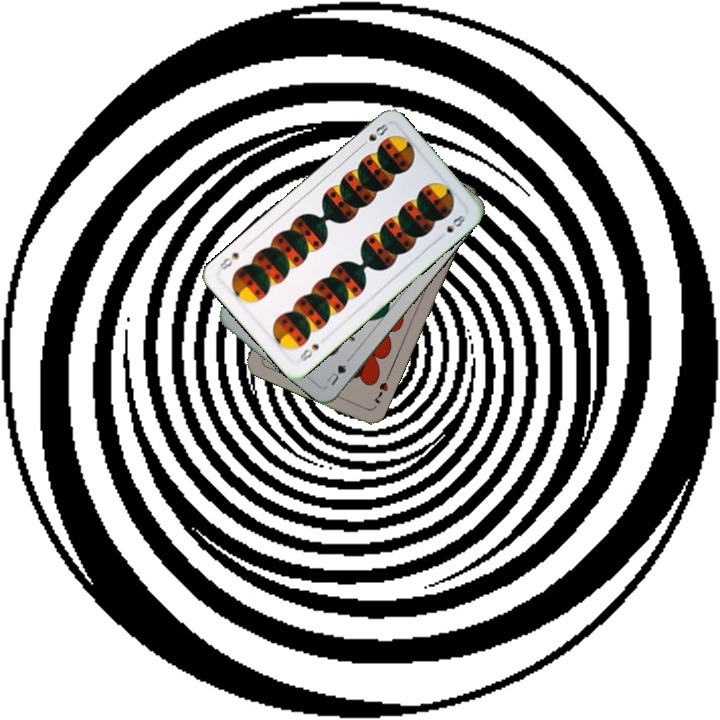GU: (322, 355, 353, 388)
H7: (369, 378, 391, 406)
S8: (356, 120, 391, 151), (296, 340, 322, 364)
